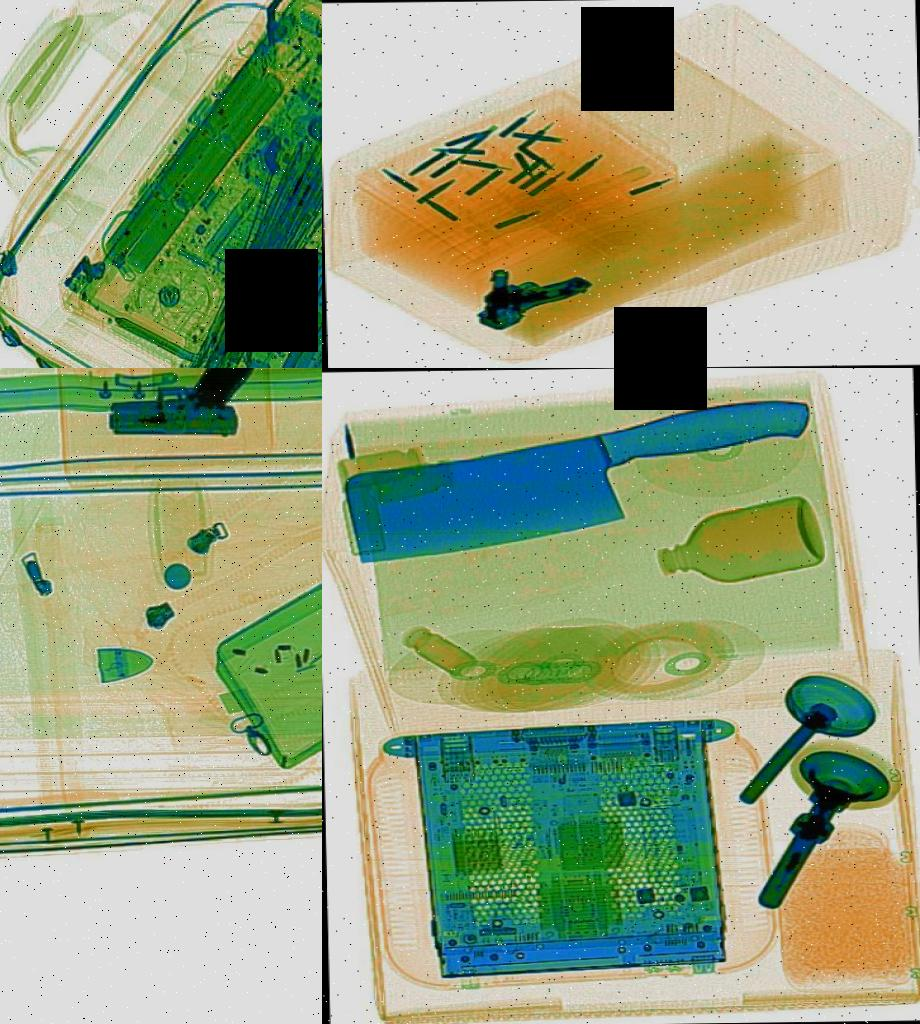Gun: (110, 368, 259, 438), (478, 267, 596, 327)
Knife: (340, 379, 827, 570), (221, 213, 322, 368)
